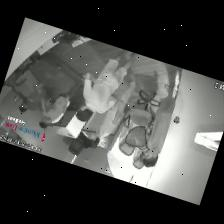person: (75, 50, 136, 120), (86, 80, 135, 147), (143, 84, 177, 166), (39, 79, 81, 127), (3, 56, 39, 86)
